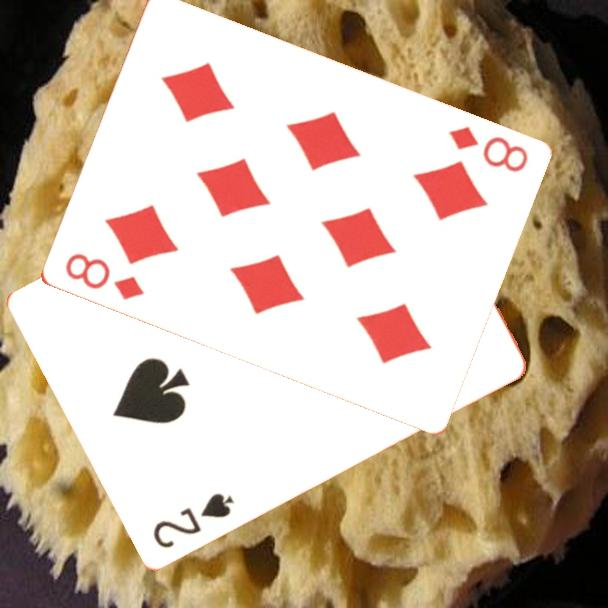d08: (61, 249, 147, 304), (444, 123, 530, 176)
s02: (149, 488, 237, 551)
